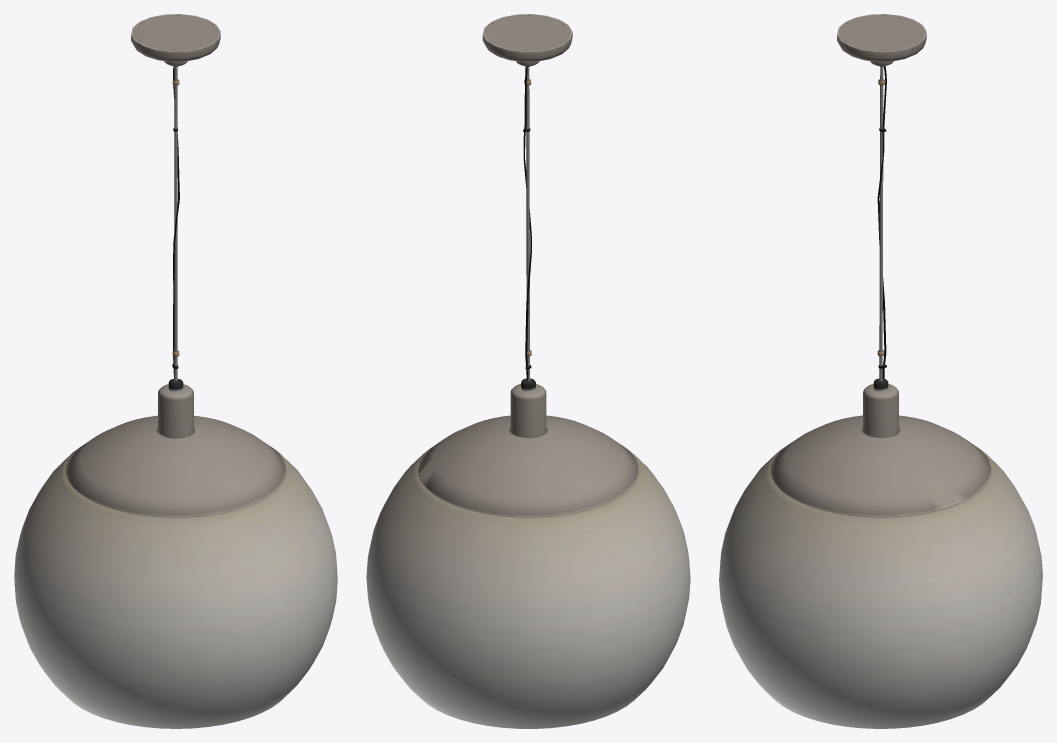
Rendered from modern_ceiling_lamp_01.glb.
The picture shows the model from 3 angles, left to right: view 1: azimuth 30°, elevation 25°; view 2: azimuth 150°, elevation 25°; view 3: azimuth 270°, elevation 25°; orthographic projection.
Parts seen in each view (by area): view 1: modern_ceiling_lamp_01; view 2: modern_ceiling_lamp_01; view 3: modern_ceiling_lamp_01.
Boxes of the visible parts, left/top/right/bottom form: modern_ceiling_lamp_01: left=14, top=14, right=337, bottom=728; modern_ceiling_lamp_01: left=366, top=14, right=690, bottom=728; modern_ceiling_lamp_01: left=719, top=14, right=1042, bottom=728.
Size of the model in its own units: 0.4316 by 0.9512 by 0.4316.
2 materials, 2 textured.
